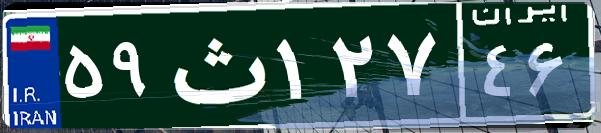1: (273, 28, 330, 110)
2: (330, 28, 385, 110)
4: (475, 38, 525, 113)
5: (57, 26, 110, 107)
6: (525, 38, 570, 115)
7: (385, 28, 445, 110)
9: (110, 28, 158, 105)
ث: (158, 15, 273, 115)
